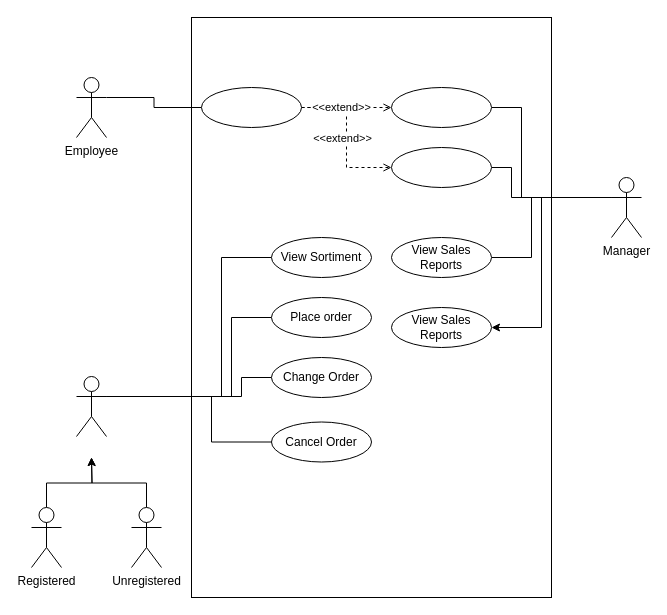
Some shapes in this 667 by 615 pixel diagram are drawn without their labels. The centre of each missing label's shape, as x and y in pixels:
"Add new entry" goes at (x=441, y=107).
"Customer" goes at (x=91, y=406).
"Delete an entry" goes at (x=441, y=167).
"Update stock information" goes at (x=251, y=107).
